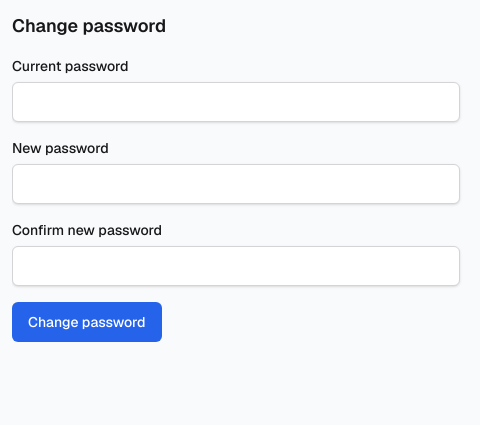
Test case: ChangePasswordForm › shows a success message when the backend confirms the change
In the password field labelled "Current password": point(236, 102) [12,82,460,122], type "WrongOldPass@123"
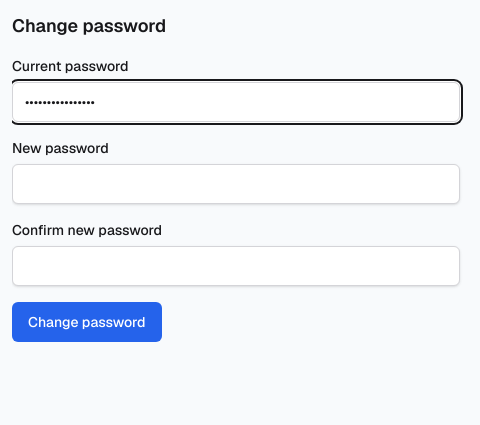
In the password field labelled "New password": point(236, 184) [12,164,460,204], type "NewPass@123"
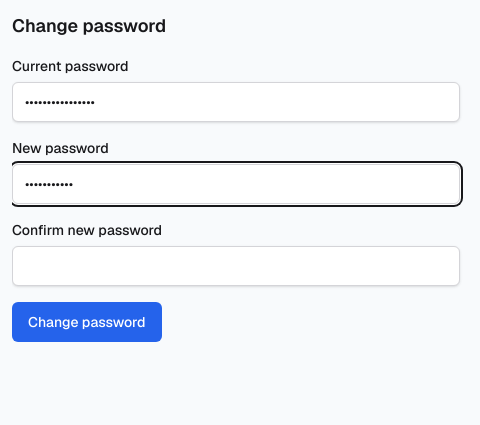
In the password field labelled "Confirm new password": point(236, 266) [12,246,460,286], type "NewPass@123"
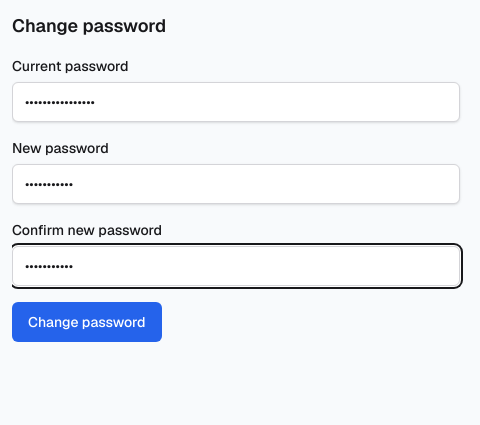
Click the button "Change password": point(87, 322) [12,302,162,342]
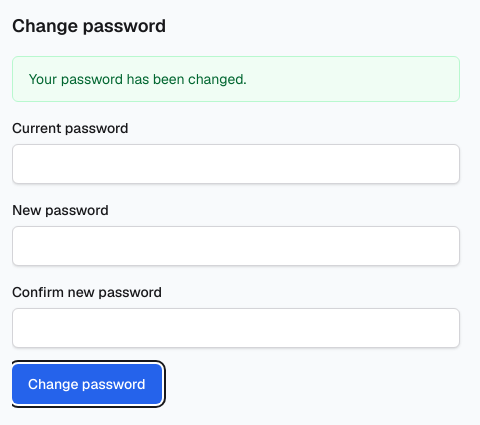
expect the text "Your password has been changed." is shown: met, box [12,56,460,102]
